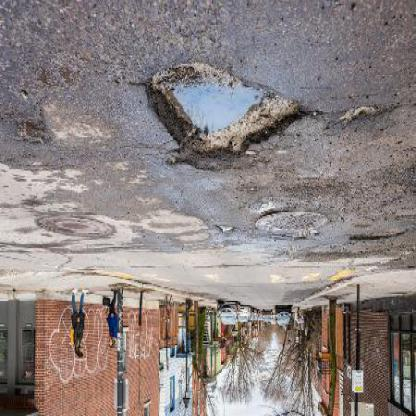pothole: (144, 61, 305, 176), (13, 114, 53, 150), (349, 226, 410, 247), (339, 105, 380, 129), (216, 224, 238, 238)
